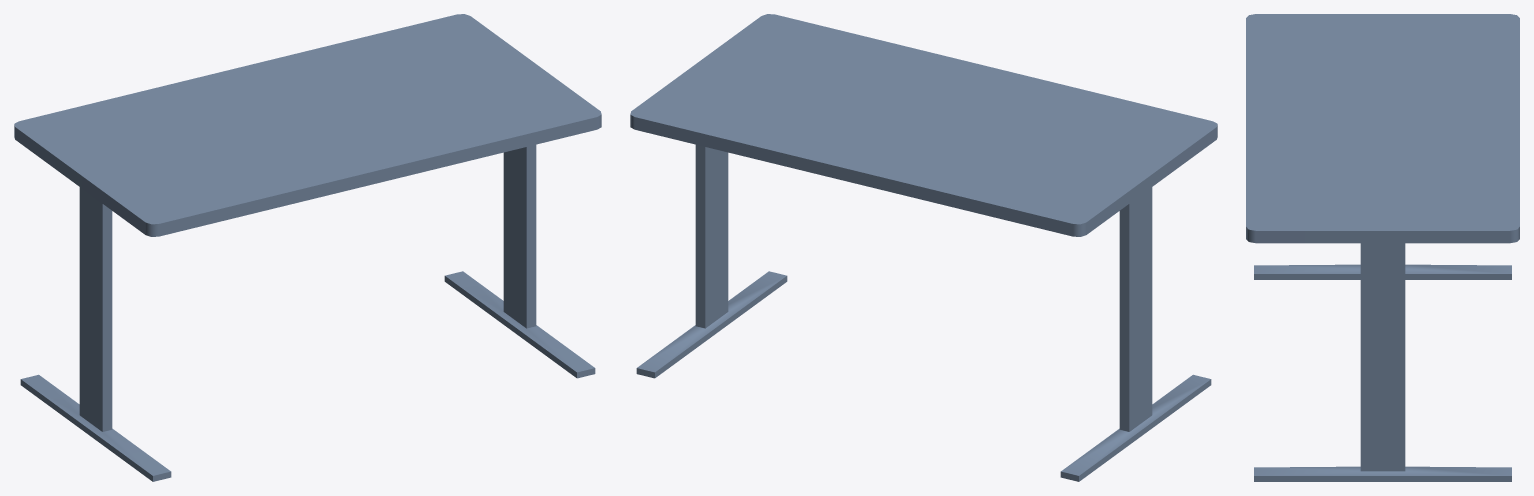
The model's file is SM_Desk_00.fbx.
3 views of the same model, side by side, from view 1: azimuth 30°, elevation 25°; view 2: azimuth 150°, elevation 25°; view 3: azimuth 270°, elevation 25° (orthographic). The views are drawn at different scales.
Visible parts, largest first — view 1: Desk_00; view 2: Desk_00; view 3: Desk_00.
Part boxes in pixels (x1=…): Desk_00: x1=14, y1=14, x2=601, y2=481; Desk_00: x1=630, y1=14, x2=1217, y2=481; Desk_00: x1=1246, y1=14, x2=1519, y2=481.
Size of the model in its own units: 150 by 82 by 80.
